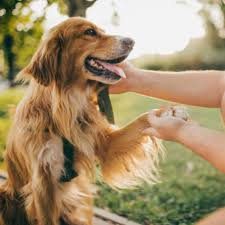dog: (9, 15, 163, 223)
